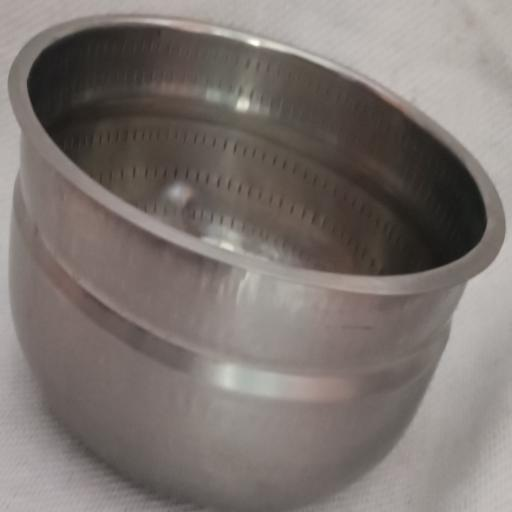vessel: (8, 16, 505, 512)
